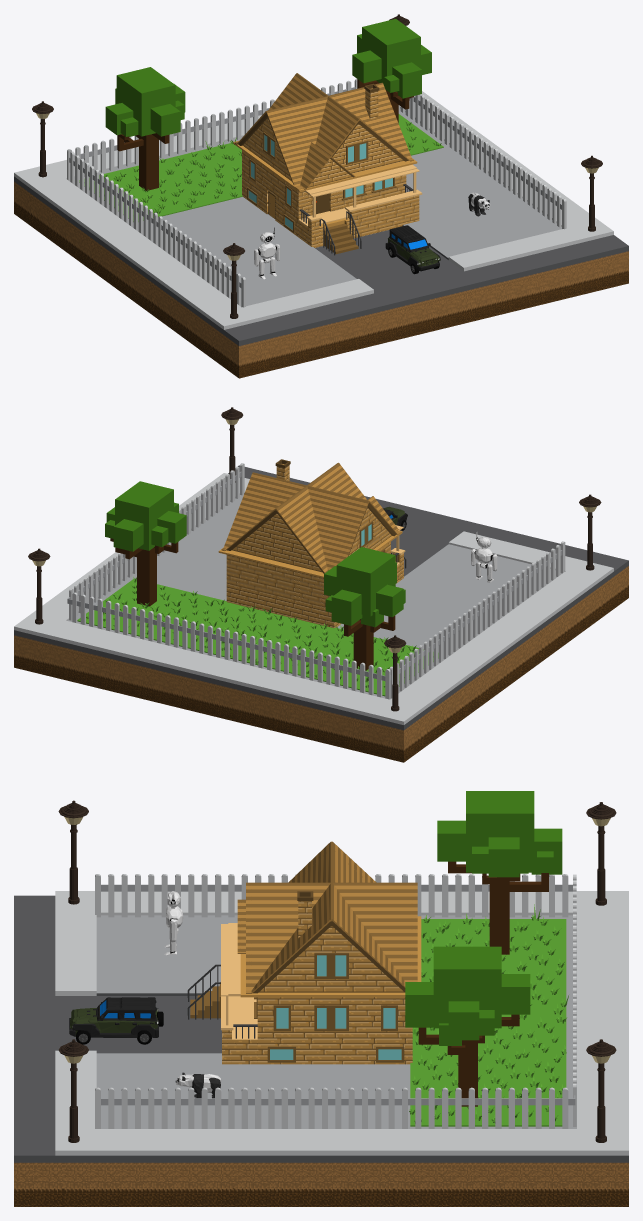
3 renders of one model, top to bottom at view 1: azimuth 30°, elevation 25°; view 2: azimuth 150°, elevation 25°; view 3: azimuth 270°, elevation 25°, orthographic. The views are drawn at different scales.
Visible parts, largest first — view 1: Cube.004, Cube.508, VEHICLES_JEEP, OBJRANDOM_PLATZEEBOT; view 2: Cube.004, Cube.508, OBJRANDOM_PLATZEEBOT; view 3: Cube.004, Cube.508, VEHICLES_JEEP, OBJRANDOM_PLATZEEBOT, ANIMAL_PANDA.
Part boxes in pixels (x1,y1,x2,y2): Cube.004: [14, 14, 628, 378]; Cube.508: [233, 73, 422, 255]; VEHICLES_JEEP: [385, 225, 440, 274]; OBJRANDOM_PLATZEEBOT: [254, 227, 280, 279]; Cube.004: [14, 407, 628, 762]; Cube.508: [218, 459, 406, 627]; OBJRANDOM_PLATZEEBOT: [471, 532, 497, 582]; Cube.004: [14, 791, 628, 1206]; Cube.508: [187, 841, 421, 1064]; VEHICLES_JEEP: [69, 997, 163, 1044]; OBJRANDOM_PLATZEEBOT: [164, 891, 183, 955]; ANIMAL_PANDA: [175, 1072, 221, 1098].
Size of the model in its own units: 4000 by 1551 by 4000.
Materials: 30 (5 with a texture image).
